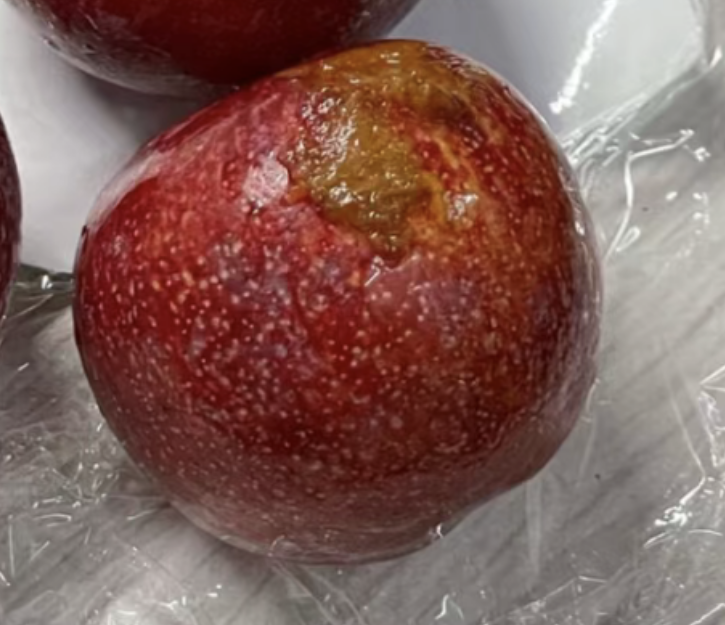plum_C: (74, 40, 606, 563)
